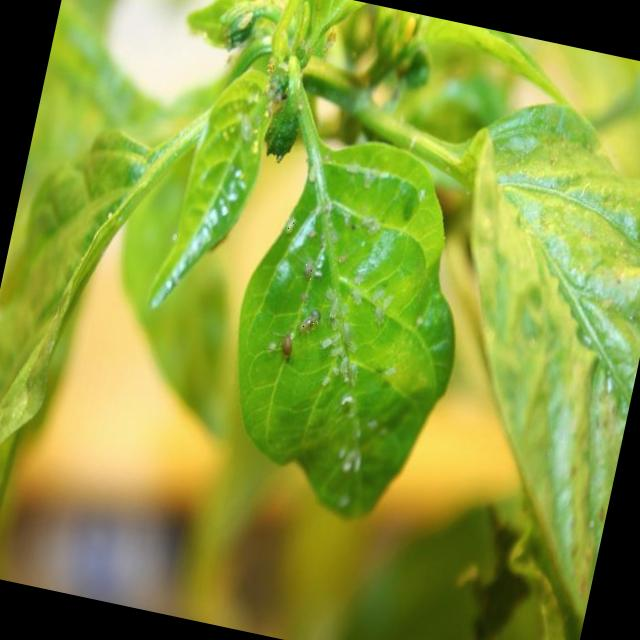aphid: (299, 315, 314, 333), (281, 334, 291, 355), (302, 260, 313, 279), (285, 218, 295, 234), (338, 255, 347, 262)
